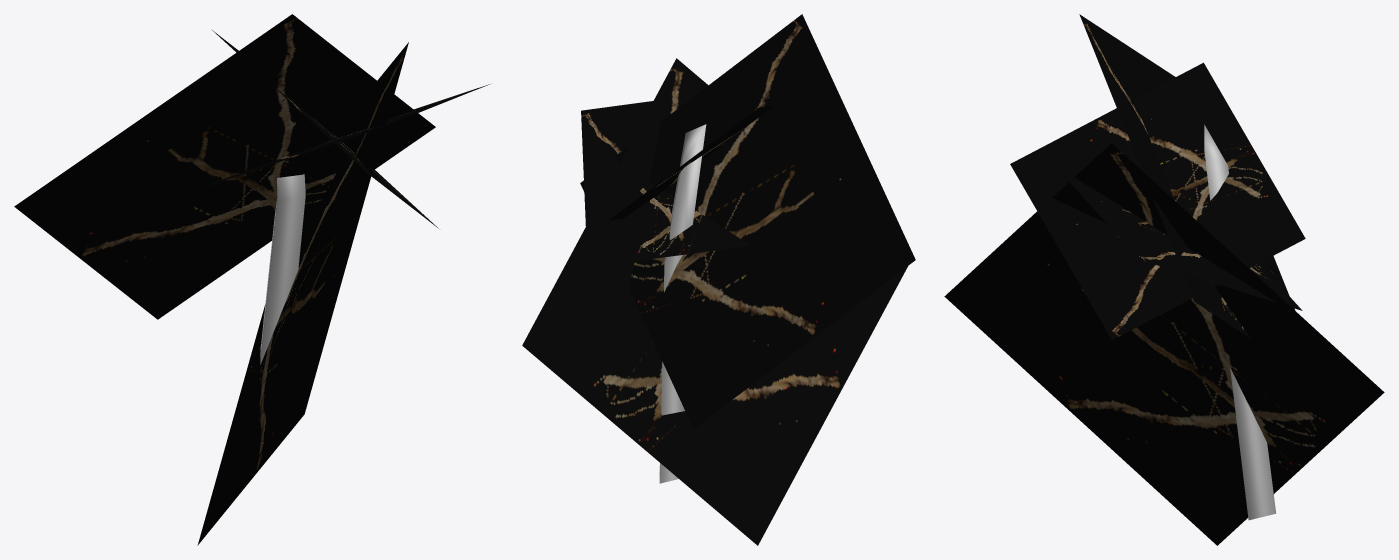
Rendered from tannenzweig 2.fbx.
3 renders of one model, left to right at view 1: azimuth 30°, elevation 25°; view 2: azimuth 150°, elevation 25°; view 3: azimuth 270°, elevation 25°, orthographic. The views are drawn at different scales.
Parts seen in each view (by area): view 1: Circle_004; view 2: Circle_004; view 3: Circle_004.
Part boxes in pixels (box(x1,y1,x2,y2)): Circle_004: box(14, 14, 490, 545); Circle_004: box(522, 14, 915, 545); Circle_004: box(944, 14, 1384, 545).
Bounding box in the file's own units: 2.96 × 3.72 × 2.74.
